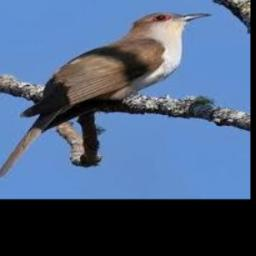Cuckoo: (0, 13, 211, 184)
